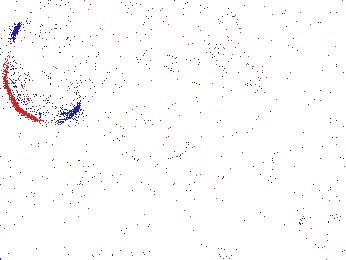moon jellyfish: (6, 20, 81, 126), (144, 1, 242, 64), (47, 26, 124, 97), (172, 46, 263, 102), (265, 21, 340, 87)
